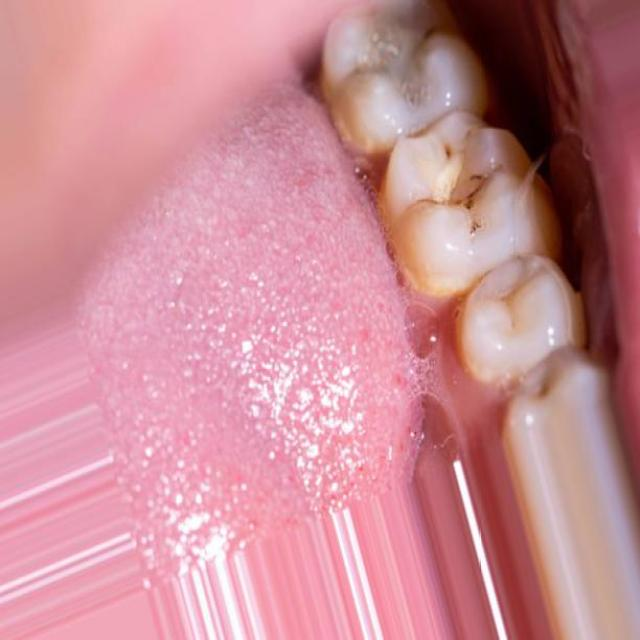caries: (402, 120, 514, 249)
